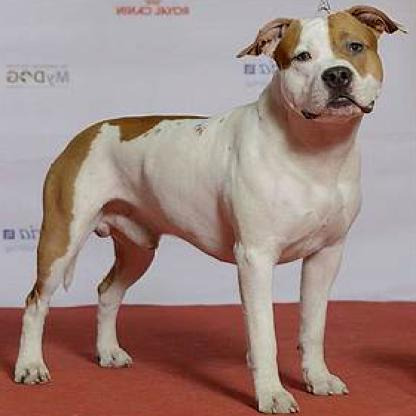dog: (12, 6, 410, 414)
